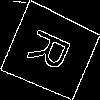R: (25, 26, 80, 78)
